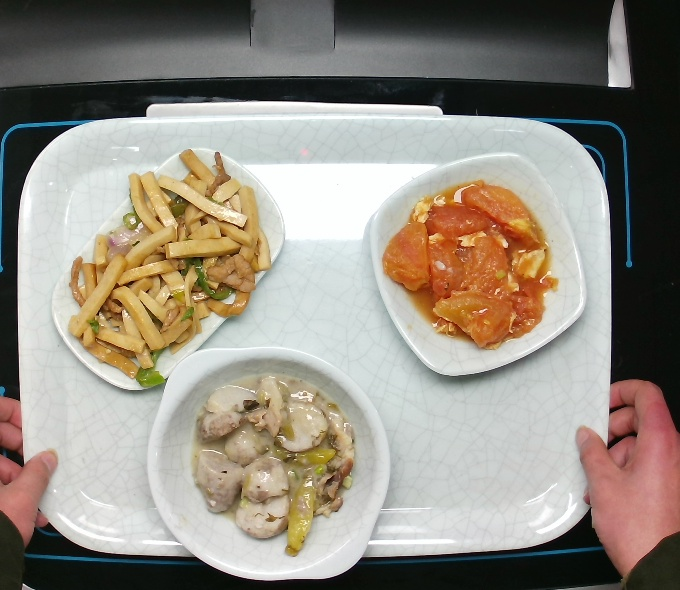wcq-FanQieChaoDan: (374, 169, 563, 359)
wcq-QianYeDouFu: (58, 130, 276, 393)
wcq-YangYu: (178, 368, 361, 562)
